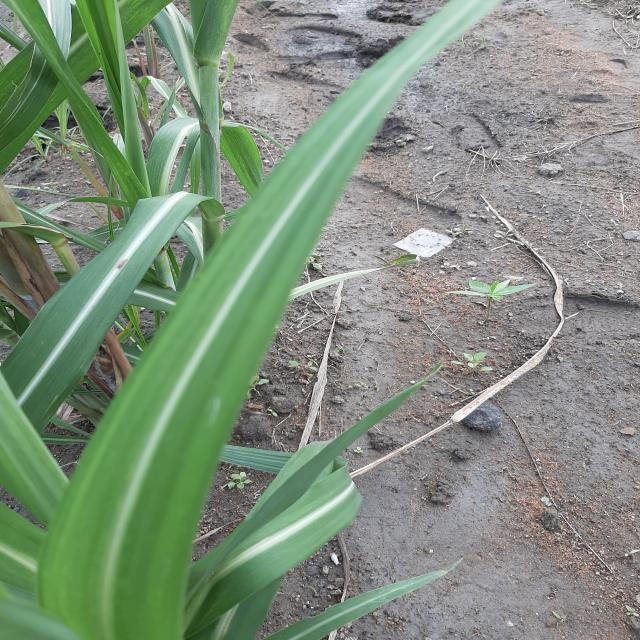Sugarcane: (1, 0, 507, 639)
